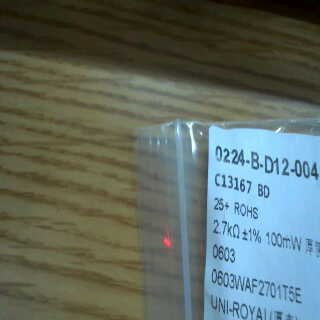2.7kR: (210, 217, 244, 240)
